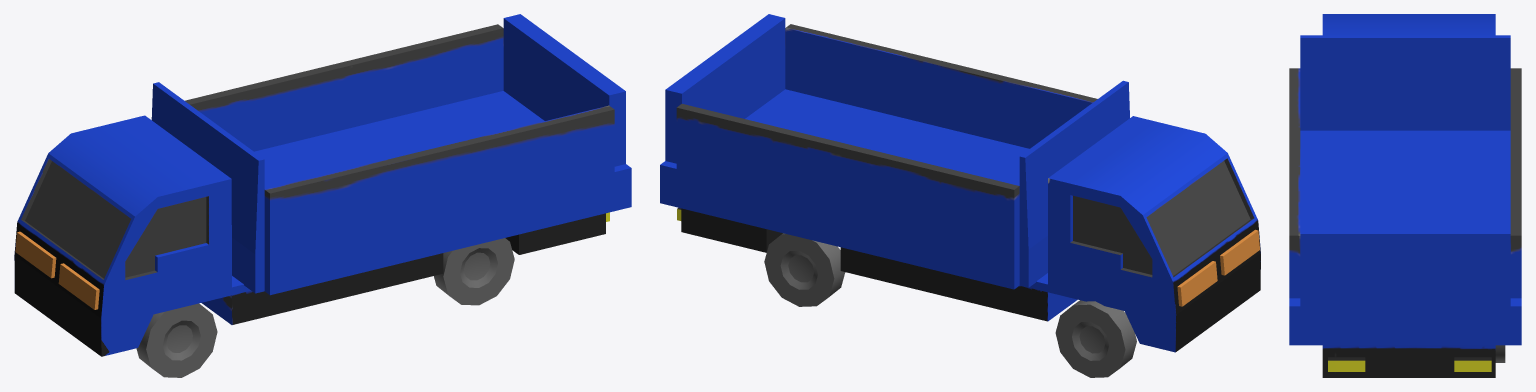
The model's file is carfinal.fbx.
3 views of the same model, side by side, from view 1: azimuth 30°, elevation 25°; view 2: azimuth 150°, elevation 25°; view 3: azimuth 270°, elevation 25° (orthographic). The views are drawn at different scales.
Visible parts, largest first — view 1: Box006; view 2: Box006; view 3: Box006.
Part boxes in pixels (x1,y1,x2,y2): Box006: (14,14,631,377); Box006: (660,14,1260,377); Box006: (1289,14,1521,377).
Bounding box in the file's own units: 142 × 55.5 × 55.53.
Materials: 1 (1 with a texture image).
